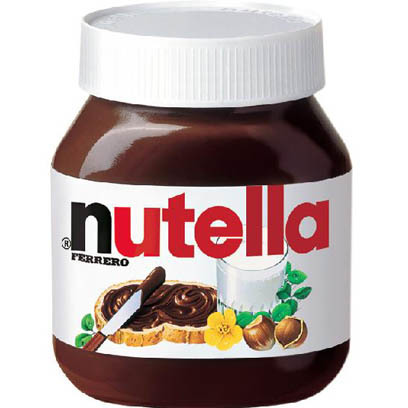nutella: (47, 1, 352, 408)
